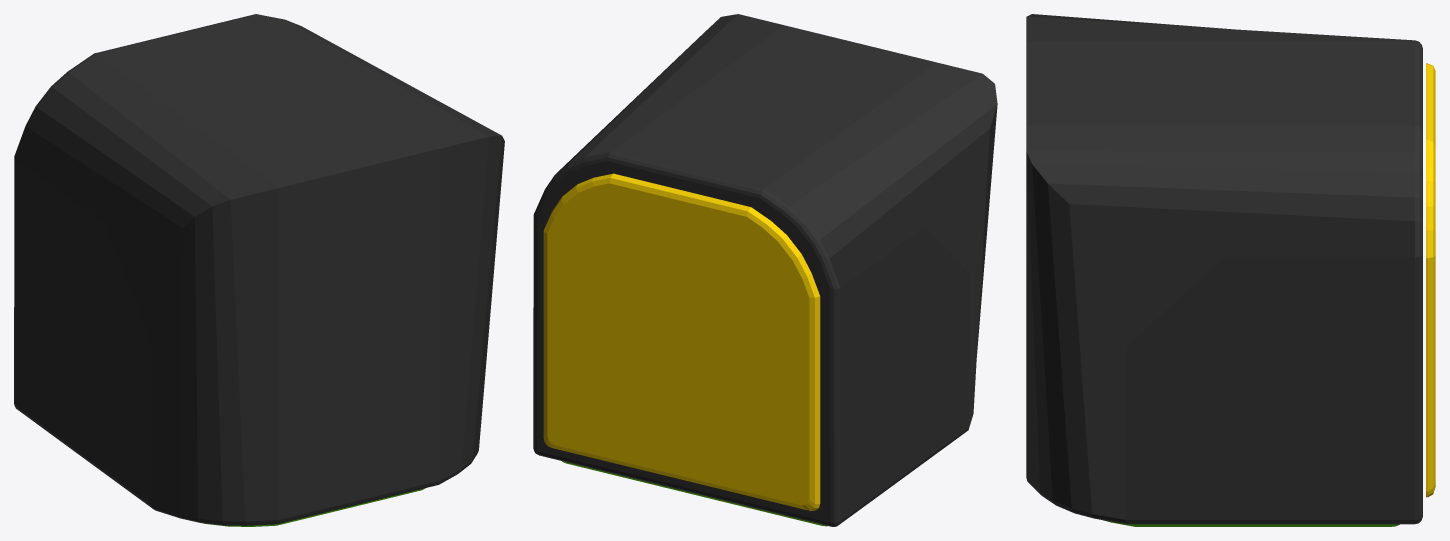
3 views of the same model, side by side, from view 1: azimuth 30°, elevation 25°; view 2: azimuth 150°, elevation 25°; view 3: azimuth 270°, elevation 25° (orthographic). The views are drawn at different scales.
Visible parts, largest first — view 1: Cube.011; view 2: Cube.011, Cube.079, Cube.047; view 3: Cube.011, Cube.079, Cube.047.
Part boxes in pixels (x1,y1,x2,y2): Cube.011: (14, 14, 504, 525); Cube.011: (533, 14, 997, 526); Cube.079: (543, 173, 820, 510); Cube.047: (562, 461, 827, 526); Cube.011: (1026, 14, 1422, 524); Cube.079: (1426, 63, 1435, 497); Cube.047: (1103, 520, 1399, 526).
Bounding box in the file's own units: 200 × 206 × 206.
